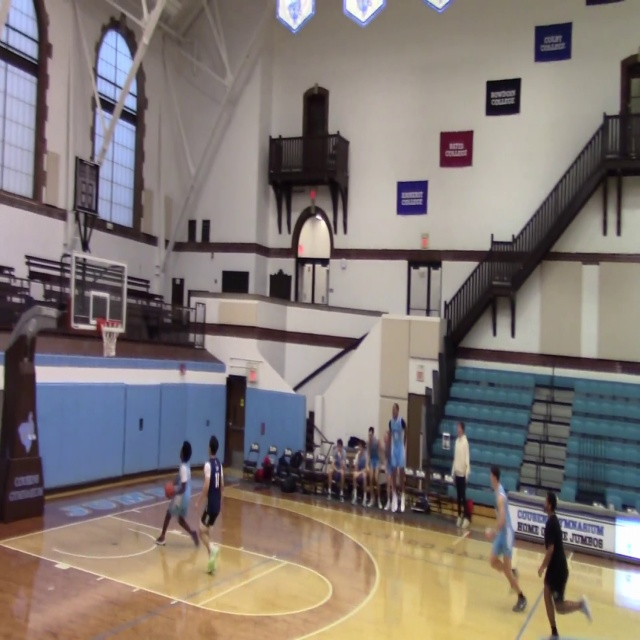Basketball: (164, 482, 175, 499)
